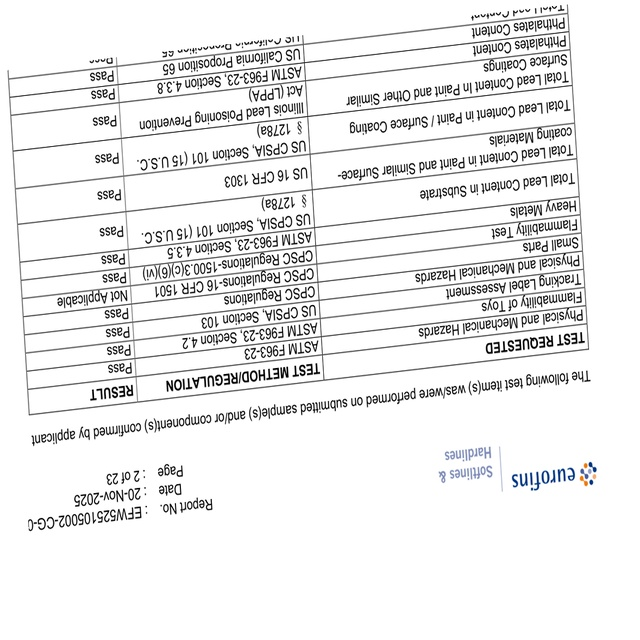eurofins: (506, 460, 601, 498)
